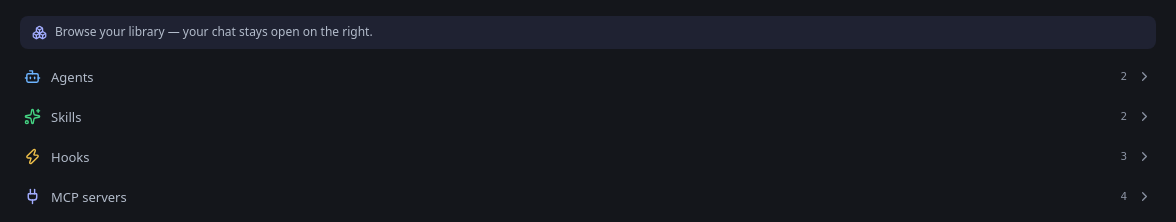
Test case: LibraryNav › Skills list has a filter that narrows the rows and a scope badge
Click the text "Skills". click: [66, 116]
box: [51,108,81,126]
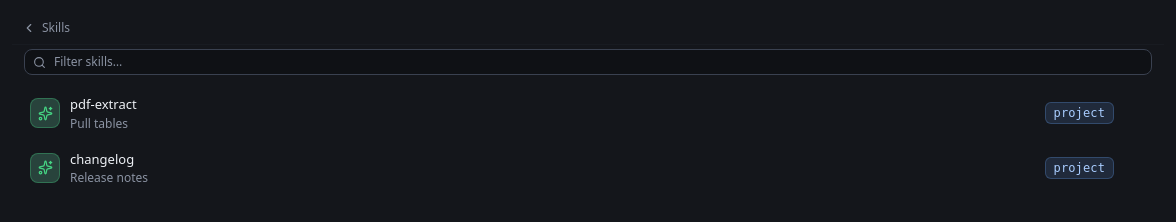
Now the text "pdf-extract" is shown, box [70,95,137,113]
Now the text "changelog" is shown, box [70,150,134,168]
Now the 1st text "project" is shown, box [1045,102,1114,124]
Type "changelog" into the field with placeholder "Filter skills…". click: [598, 62]
box: [54,54,1143,70]
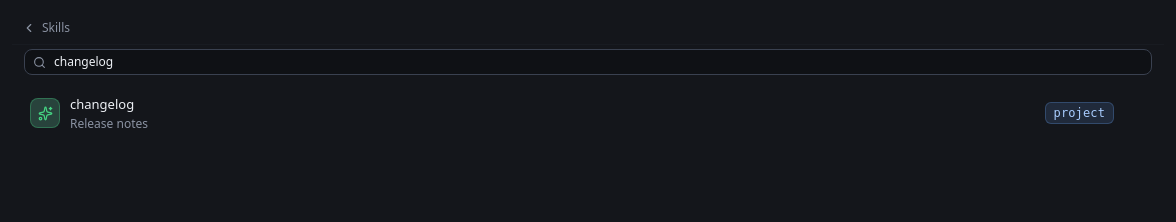
Now the text "changelog" is shown, box [70,95,134,113]
Now the button "pdf-extract" is gone
